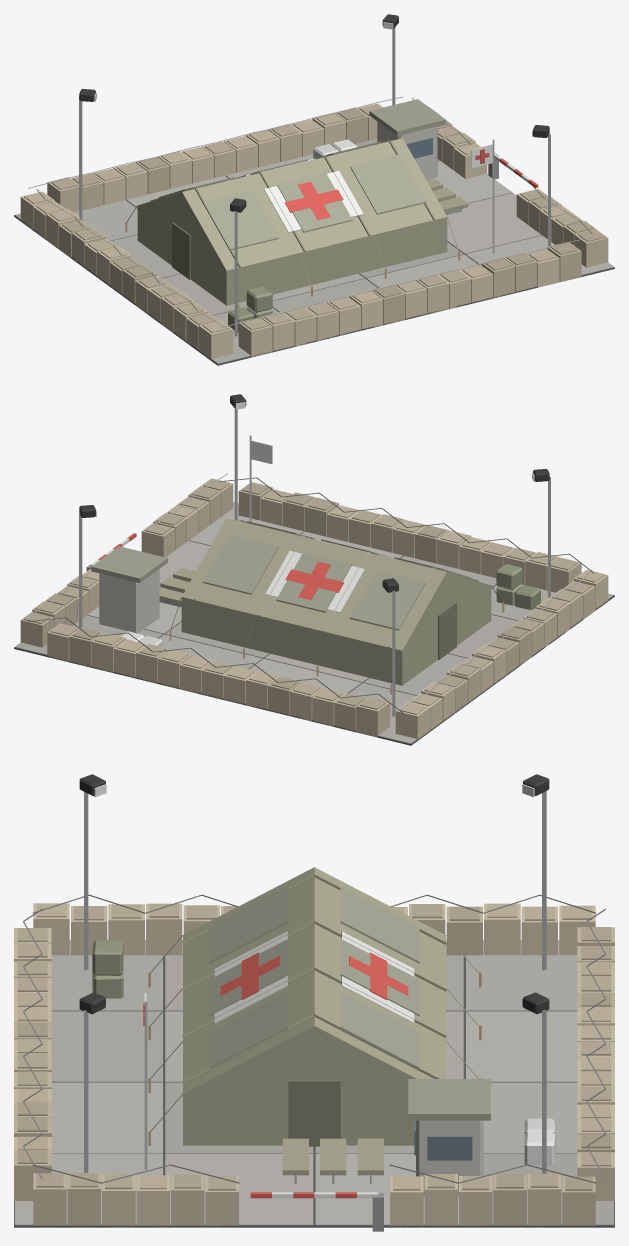
Rendered from b_clinic.glb.
The picture shows the model from 3 angles, top to bottom: view 1: azimuth 30°, elevation 25°; view 2: azimuth 150°, elevation 25°; view 3: azimuth 270°, elevation 25°; orthographic projection. The views are drawn at different scales.
Visible parts, largest first — view 1: hull; view 2: hull; view 3: hull.
Boxes of the visible parts, left/top/right/bottom form: hull: left=14, top=14, right=614, bottom=365; hull: left=14, top=394, right=614, bottom=745; hull: left=14, top=774, right=614, bottom=1231.
Bounding box in the file's own units: 18.25 × 5.78 × 16.
